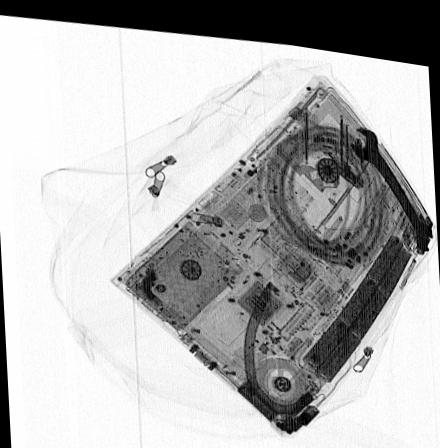Wrench: (347, 116, 435, 238)
